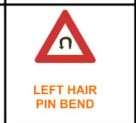Traffic signal: (33, 9, 99, 66)
